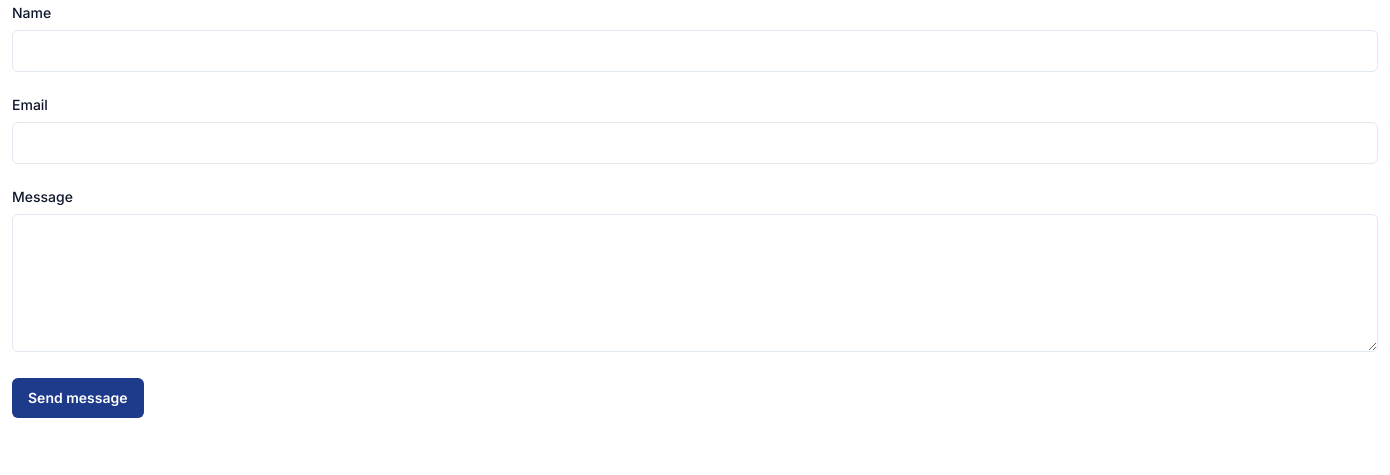
Test: ContactForm › shows an alert and logs an error when delivery fails
The width and height of the screenshot is (1390, 475).
Type "Ana" into the field labelled "Name" at {"x": 695, "y": 51}, box [12,30,1378,72]
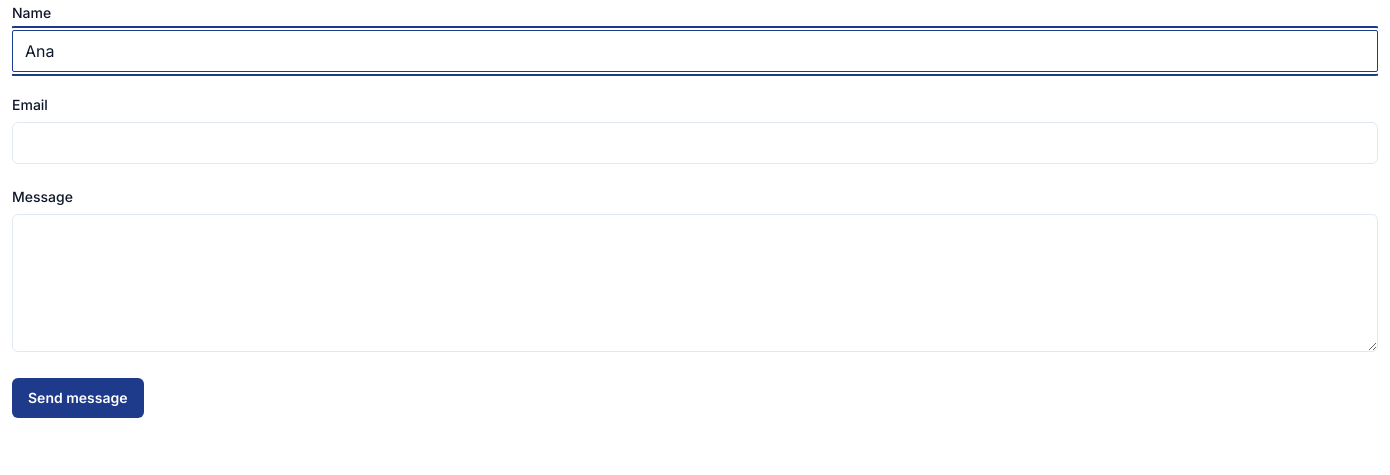
Type "ana@example.com" into the field labelled "Email" at {"x": 695, "y": 143}, box [12,122,1378,164]
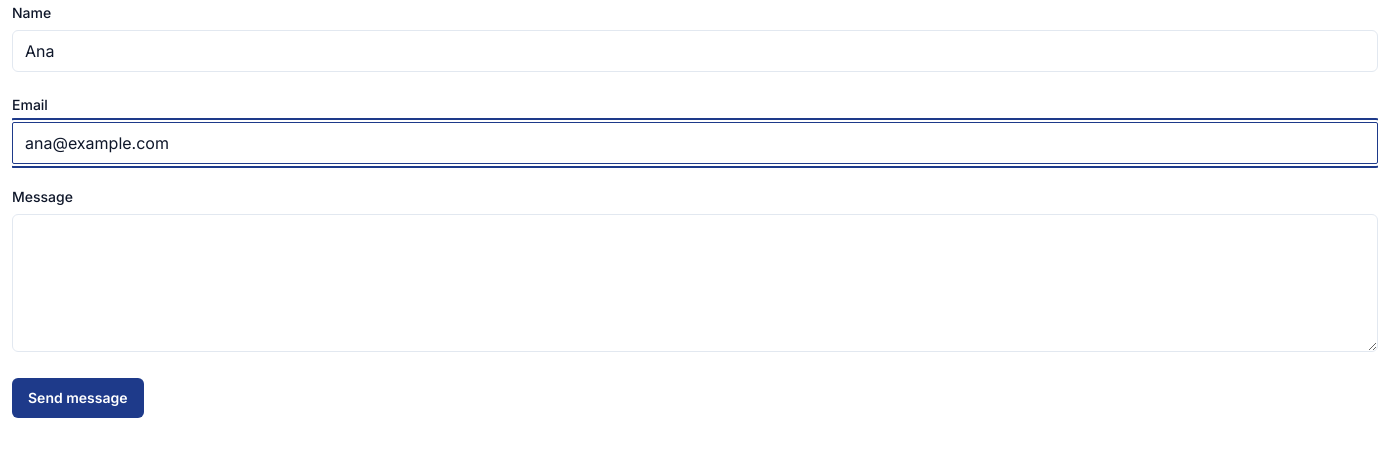
Type "Hello, I have a platform role for you." into the text box labelled "Message" at {"x": 695, "y": 283}, box [12,214,1378,352]
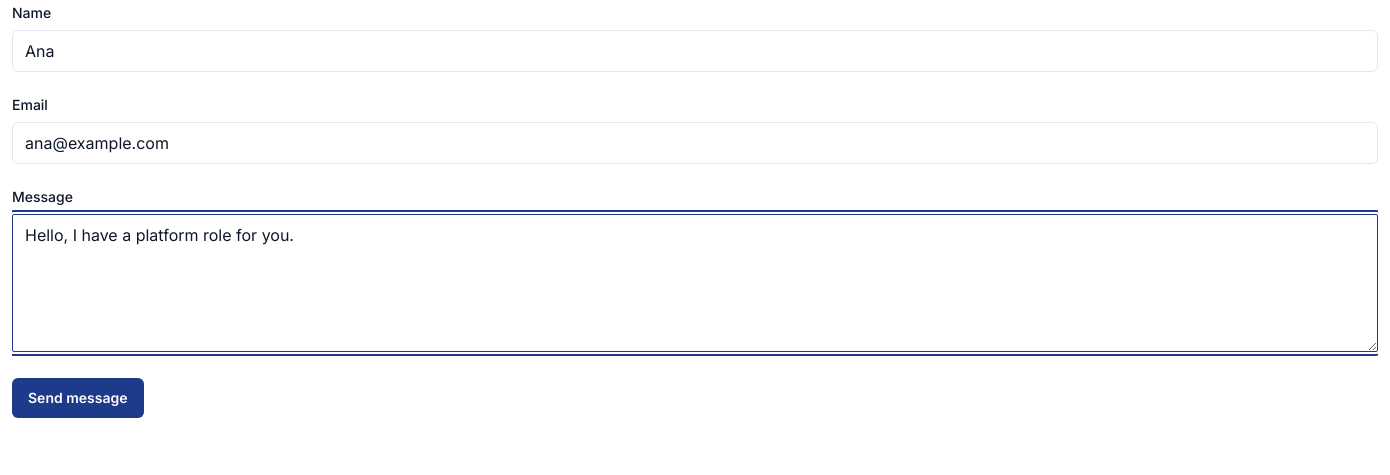
Click the button "Send message" at {"x": 78, "y": 398}, box [12,378,144,418]
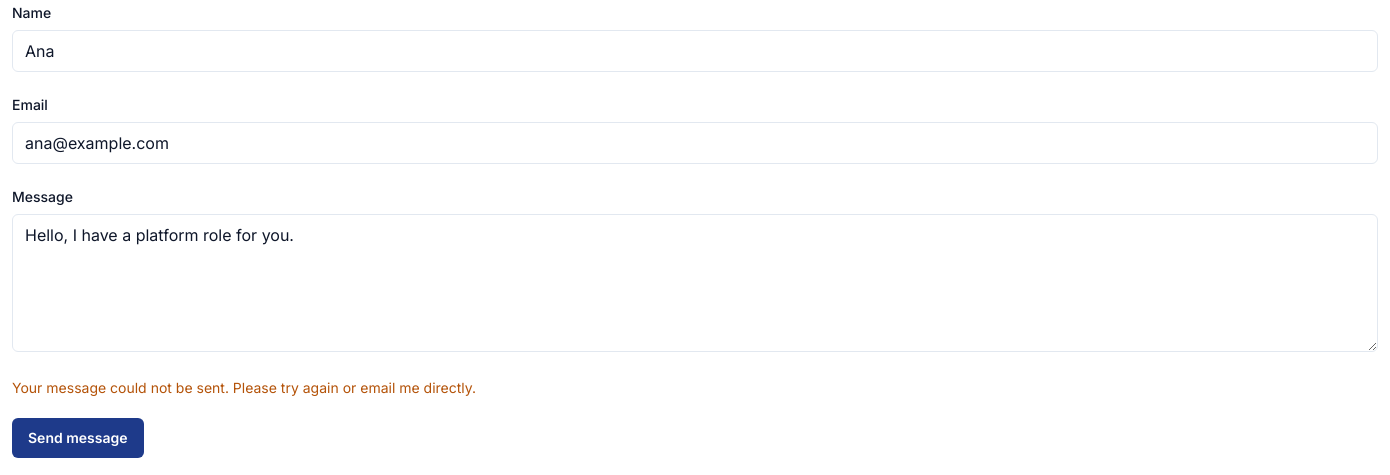
Now the message shows "could not be sent", box [12,379,476,396]
